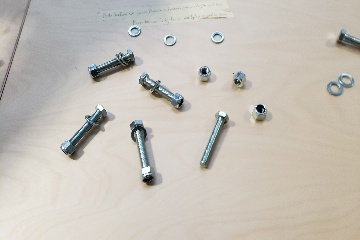Bolt: (197, 109, 238, 168)
FalseAssembly: (58, 101, 111, 161), (125, 119, 161, 186)
FinishedAssembly: (138, 72, 187, 109), (86, 46, 137, 81)
Nut: (251, 102, 269, 121), (196, 66, 214, 84), (232, 72, 248, 90)
Washer: (326, 80, 343, 96), (338, 72, 355, 87), (210, 29, 225, 44), (161, 35, 179, 47), (127, 25, 144, 37)
